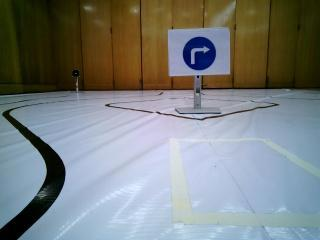right: (167, 29, 229, 74)
